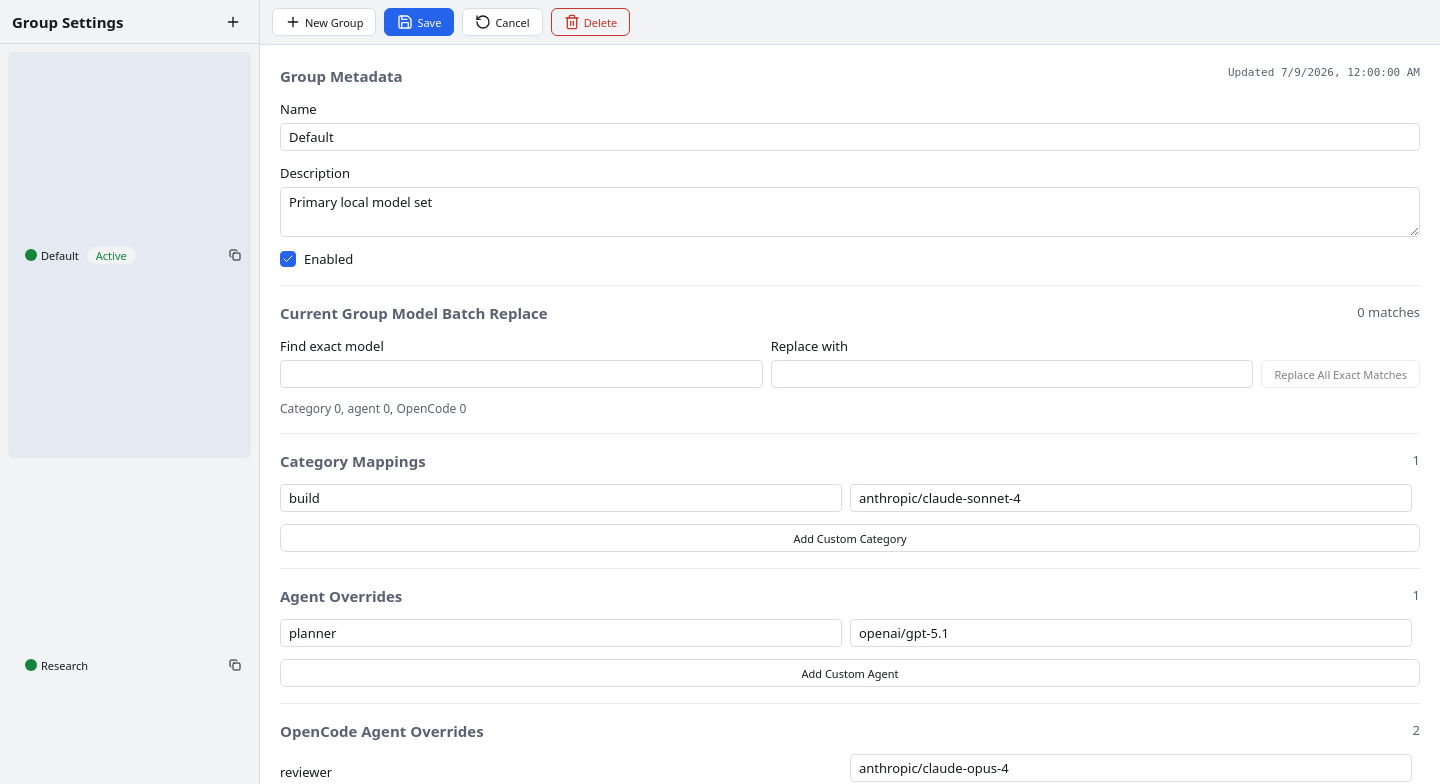
Scenario: Groups settings components › keeps duplicate validation and disabled unsaved switching semantics
Replace the text in the field labelled "Name" with "Research" at point(850, 137), box [280,123,1420,151]
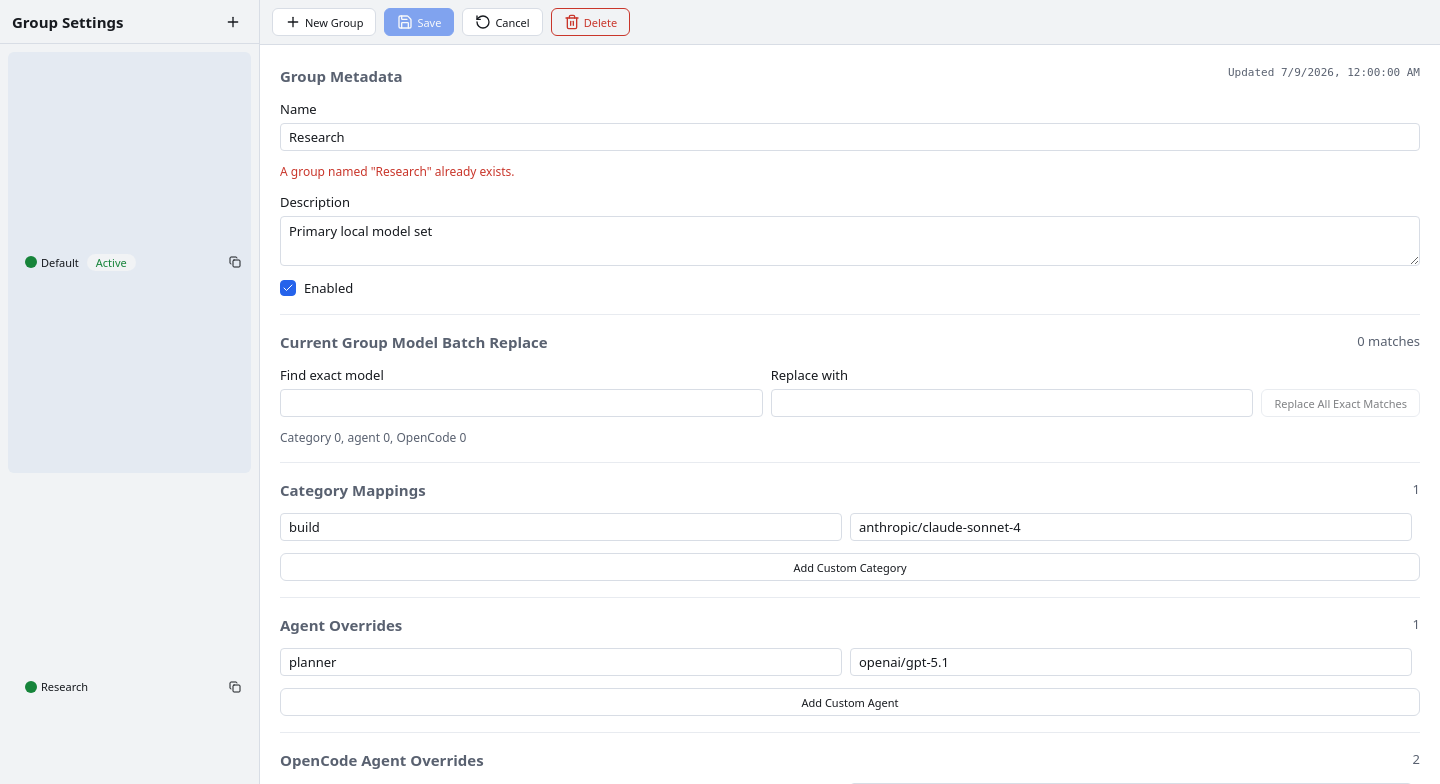
Result: the text "A group named \"Research\" already exists." is shown at [280,163,514,180]
Result: the button "Save" is disabled at [384,8,454,36]
